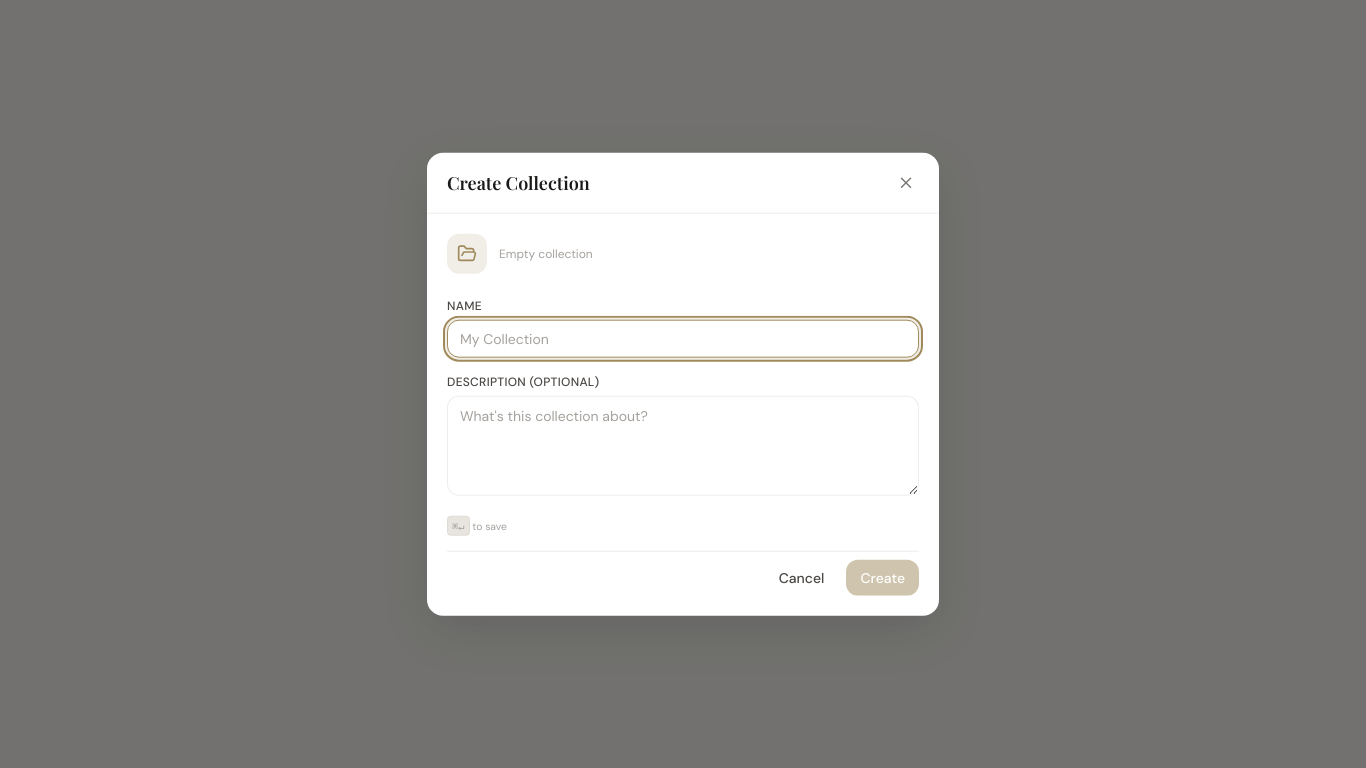
it: CollectionEditModal › create mode › should enable Create button when name is entered
In the field labelled "Name": (683,339) [447,320,919,358], type "My New Collection"
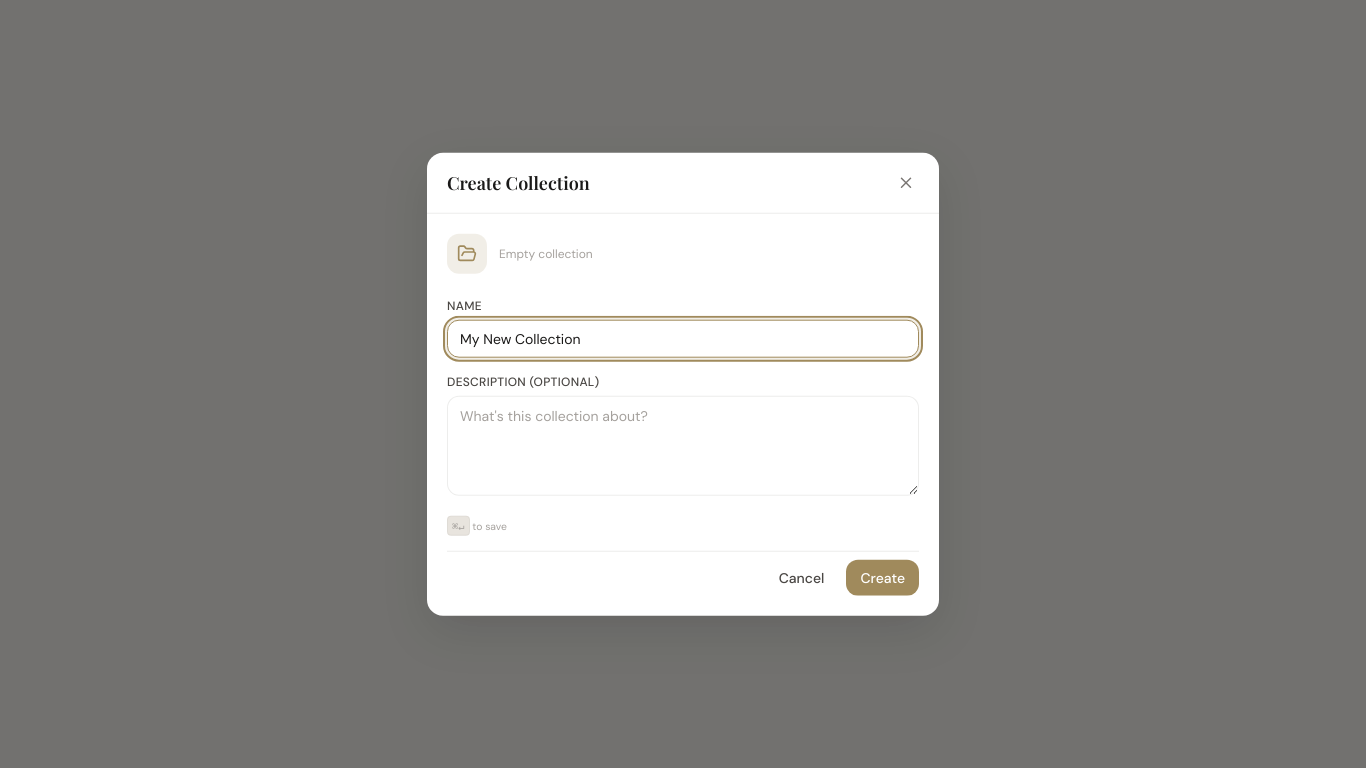
Now the button "Create" is enabled, box [846,559,919,595]
